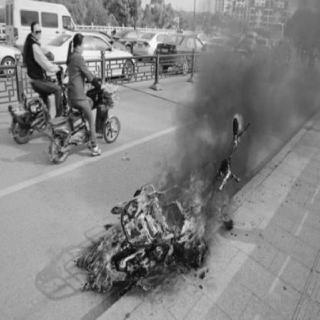Fire: (70, 153, 232, 291)
Smoke: (198, 65, 280, 143), (285, 19, 311, 103)
